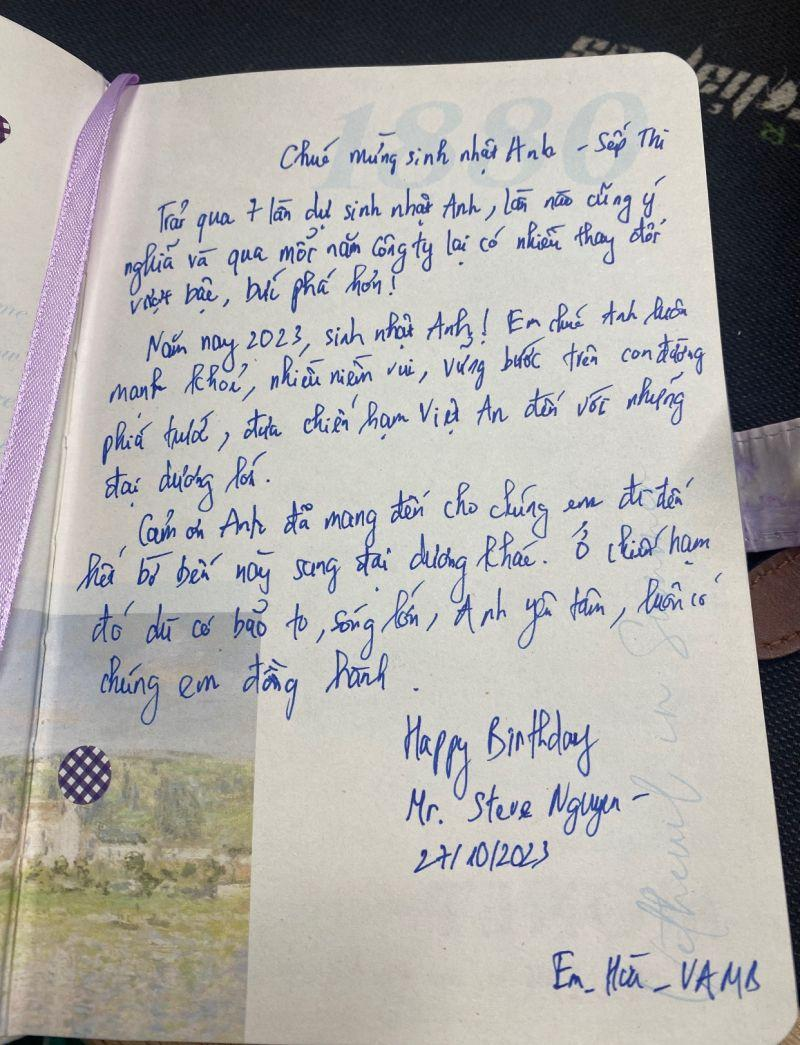text: (99, 369, 689, 473), (87, 570, 724, 666), (70, 516, 713, 606), (106, 331, 709, 410), (121, 213, 667, 300), (141, 291, 691, 376), (134, 471, 699, 553), (153, 176, 681, 243), (94, 646, 394, 731), (277, 120, 673, 177), (404, 703, 601, 803), (126, 260, 400, 321), (403, 776, 653, 841), (553, 943, 763, 1007), (100, 446, 270, 516), (411, 836, 554, 880)
